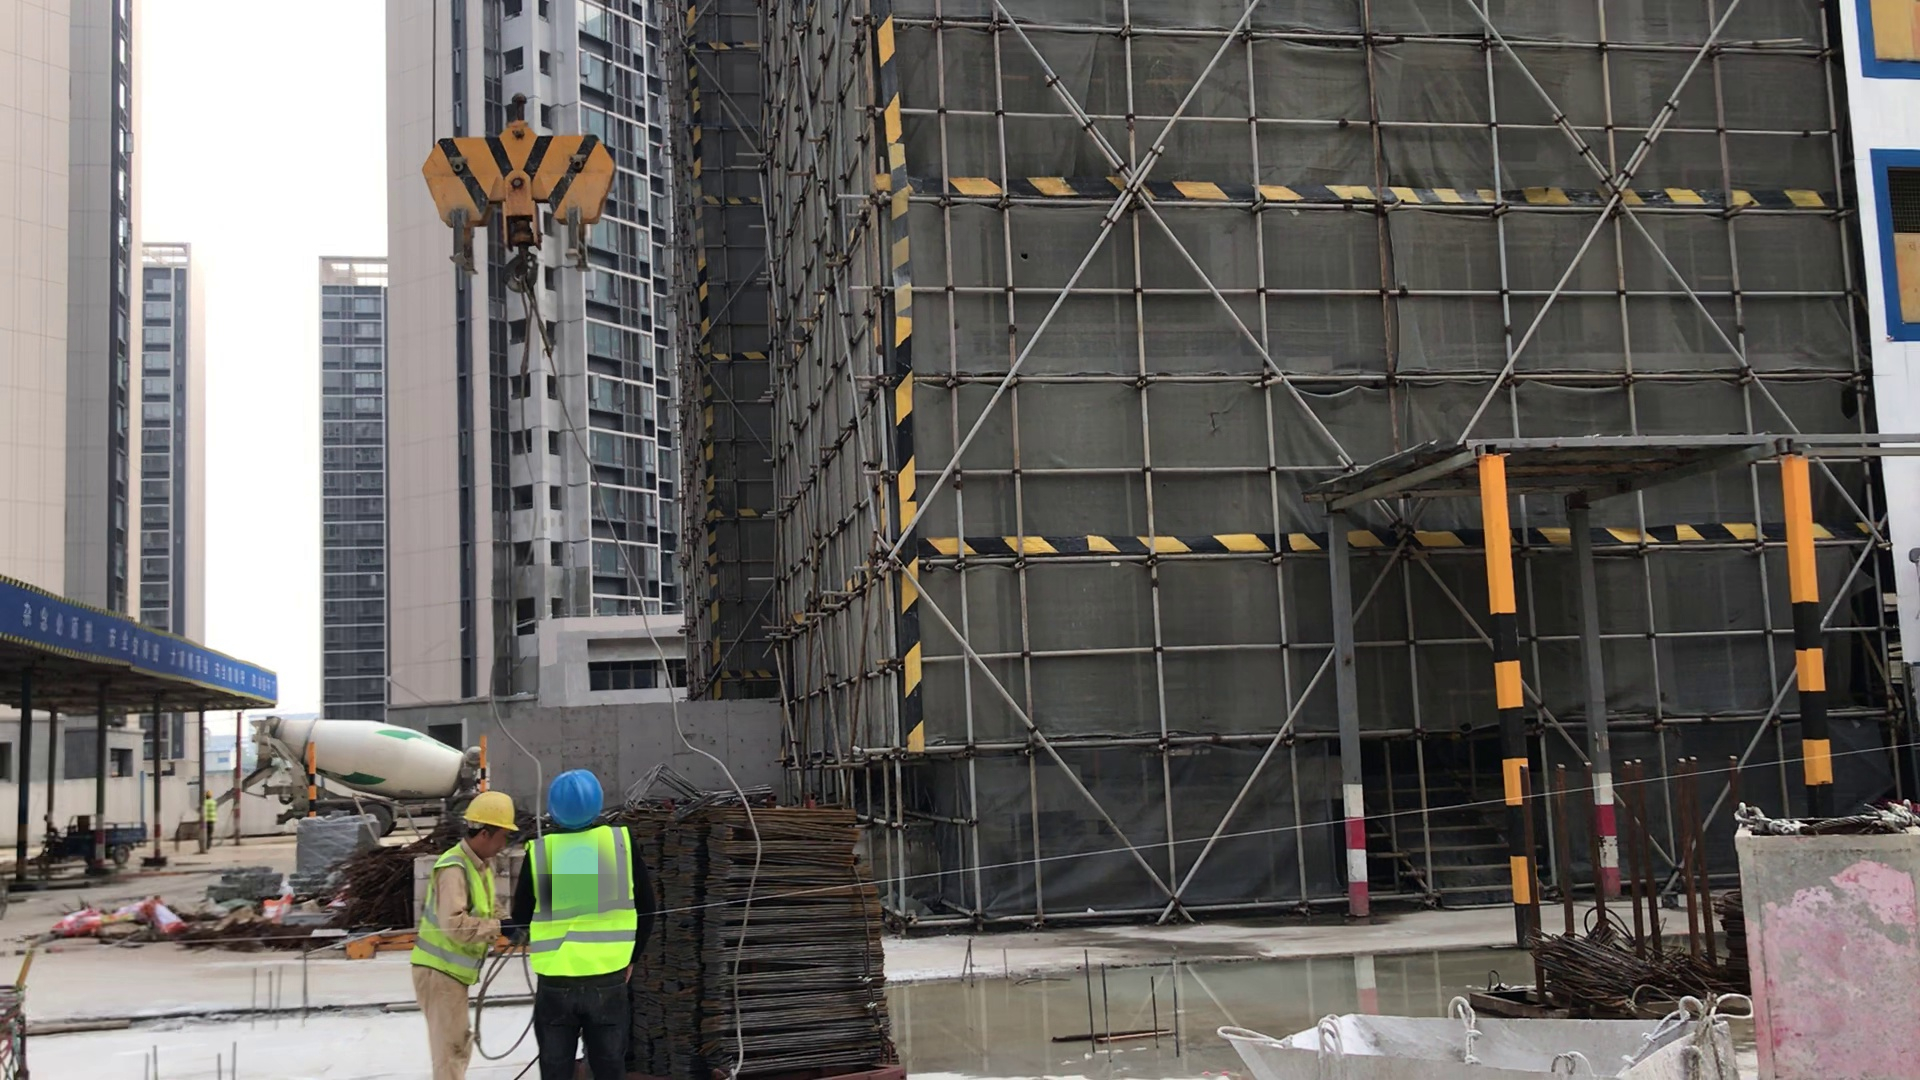helmet: (544, 768, 607, 829), (455, 780, 519, 835)
hook: (415, 105, 642, 278)
person: (490, 755, 676, 1077), (397, 780, 542, 1080), (202, 788, 224, 852)
slogan: (11, 579, 283, 702)
vest: (523, 829, 639, 977), (403, 849, 492, 983), (203, 801, 217, 822)
